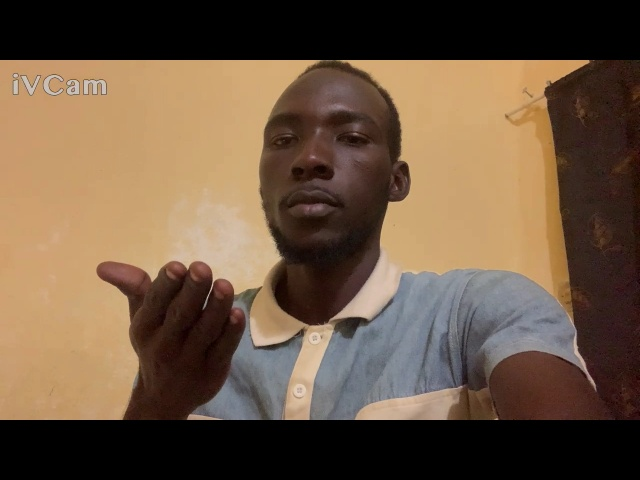merci: (91, 236, 283, 420)
